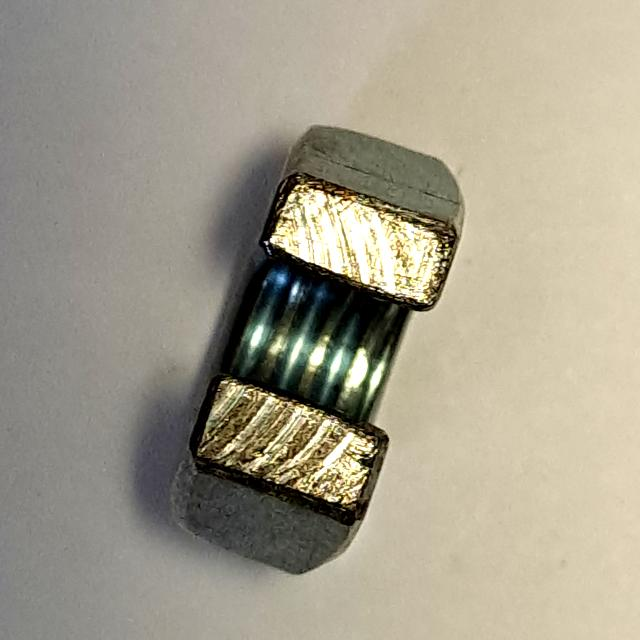Side-Fracture: (160, 109, 480, 597)
